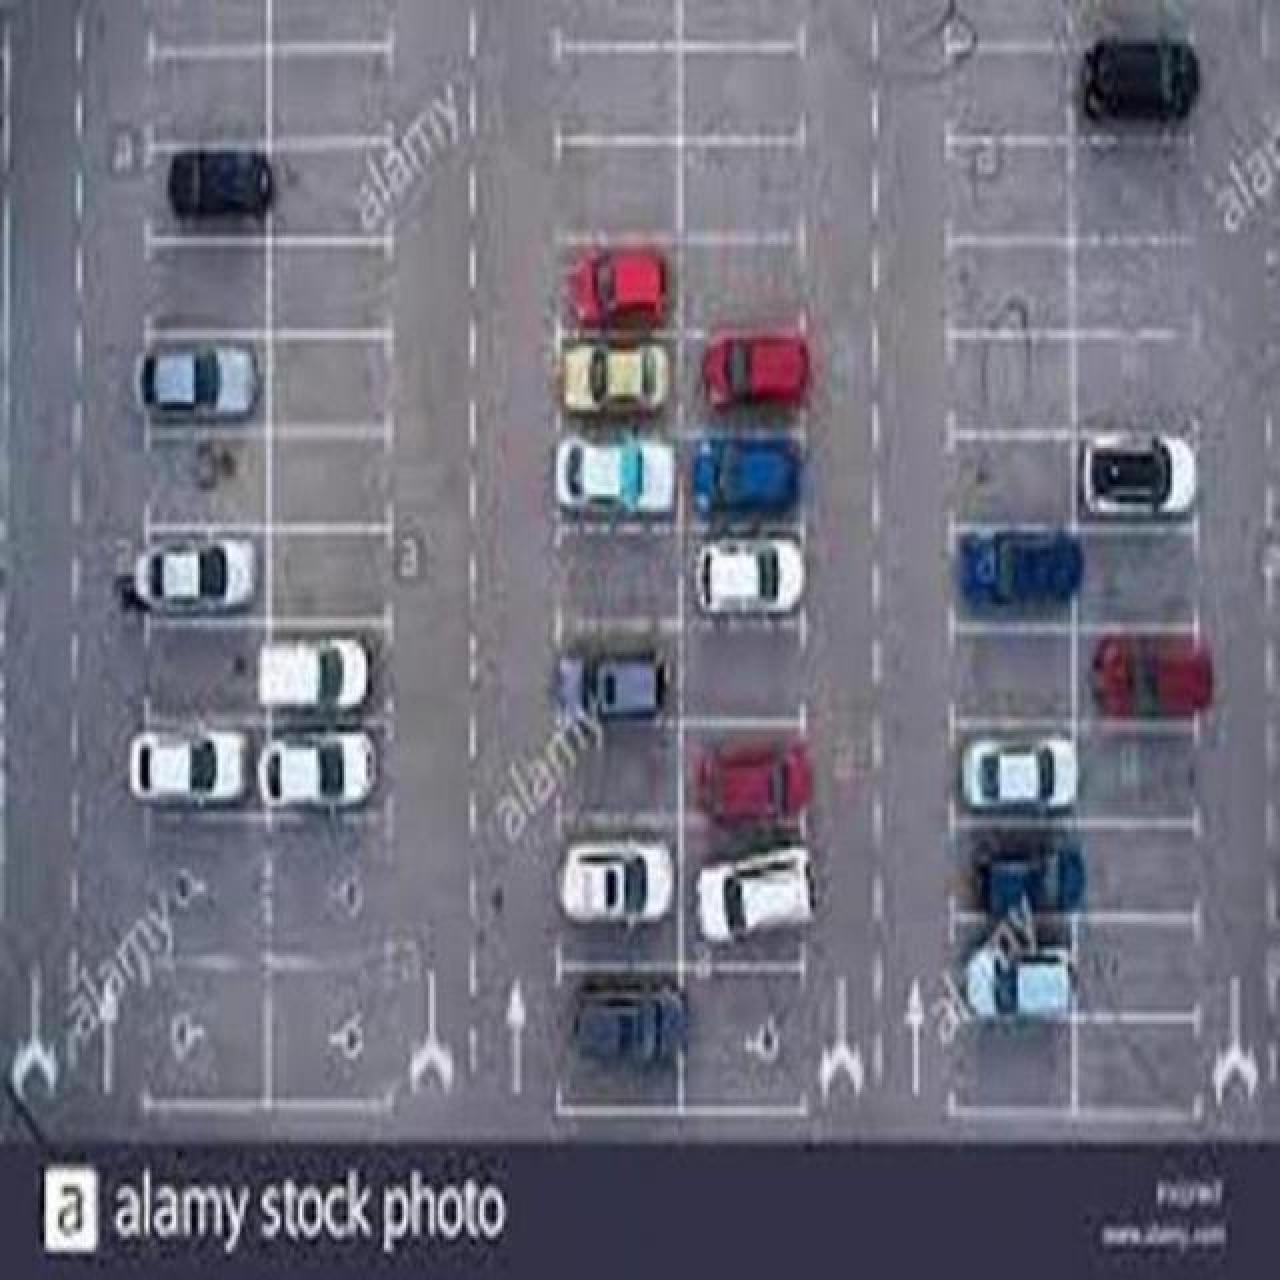car: (694, 842, 816, 944), (556, 836, 674, 928), (570, 974, 688, 1065), (694, 734, 812, 824), (1080, 36, 1200, 124), (1088, 632, 1212, 716), (1078, 433, 1196, 520), (554, 433, 674, 518), (138, 340, 260, 422), (132, 535, 256, 614), (256, 728, 376, 808), (958, 734, 1078, 813), (128, 728, 248, 808), (956, 527, 1082, 604), (692, 535, 804, 617), (971, 835, 1084, 915), (256, 634, 370, 714), (692, 434, 799, 516), (564, 246, 668, 331), (964, 942, 1074, 1017), (702, 332, 810, 408), (560, 338, 668, 414), (166, 148, 272, 218), (584, 648, 666, 720)
